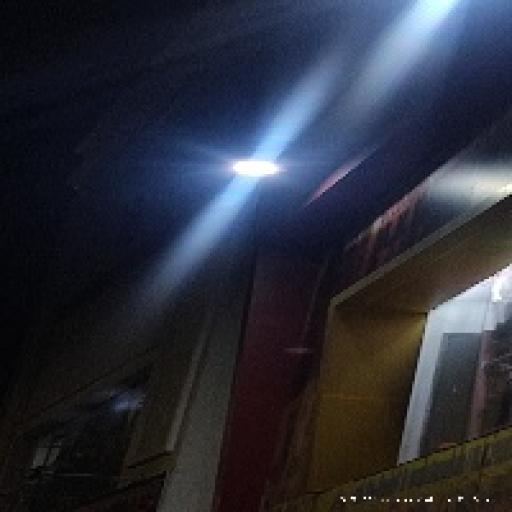Working: (220, 152, 291, 187)
